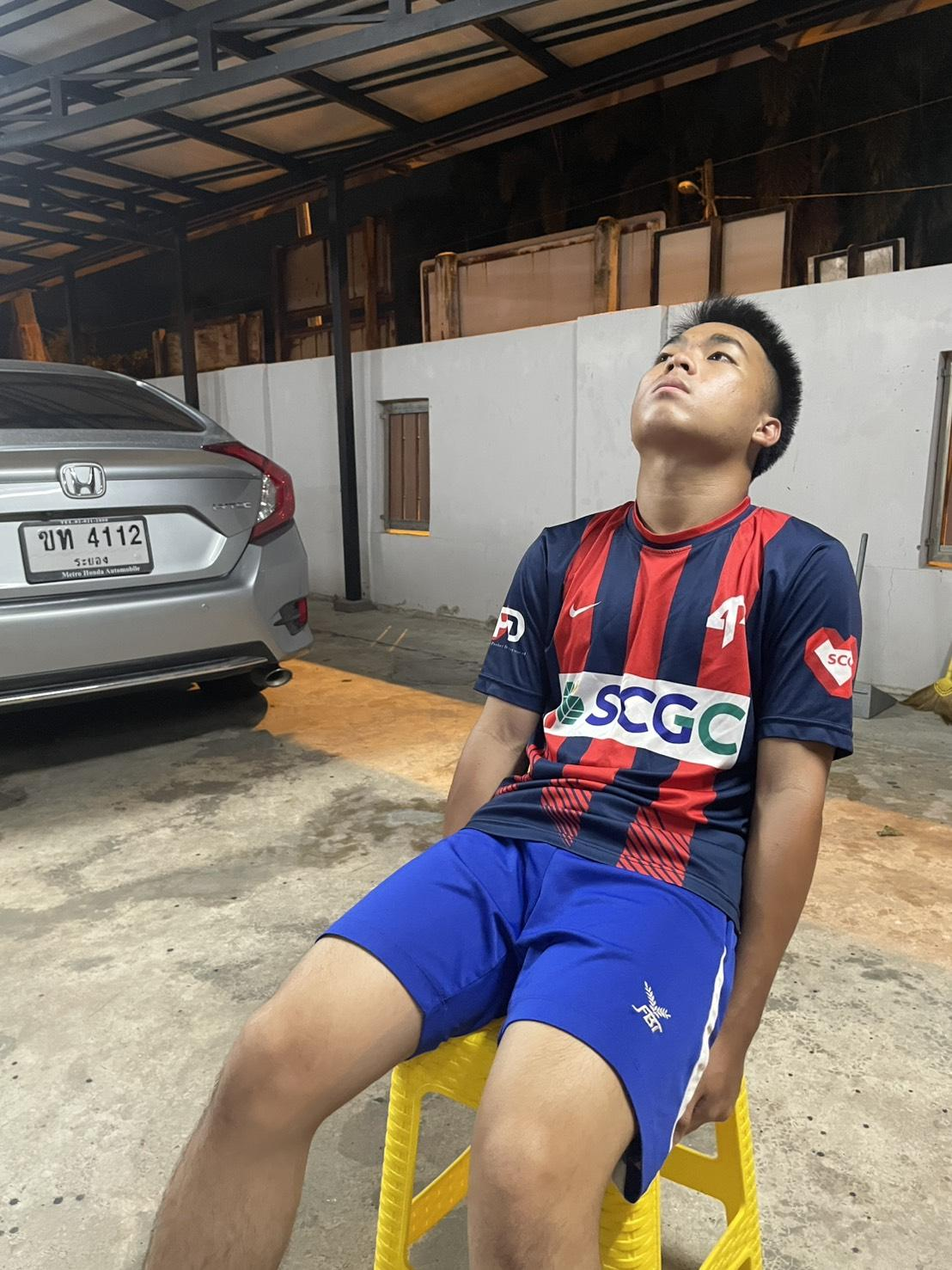BadPosture: (447, 298, 859, 977)
